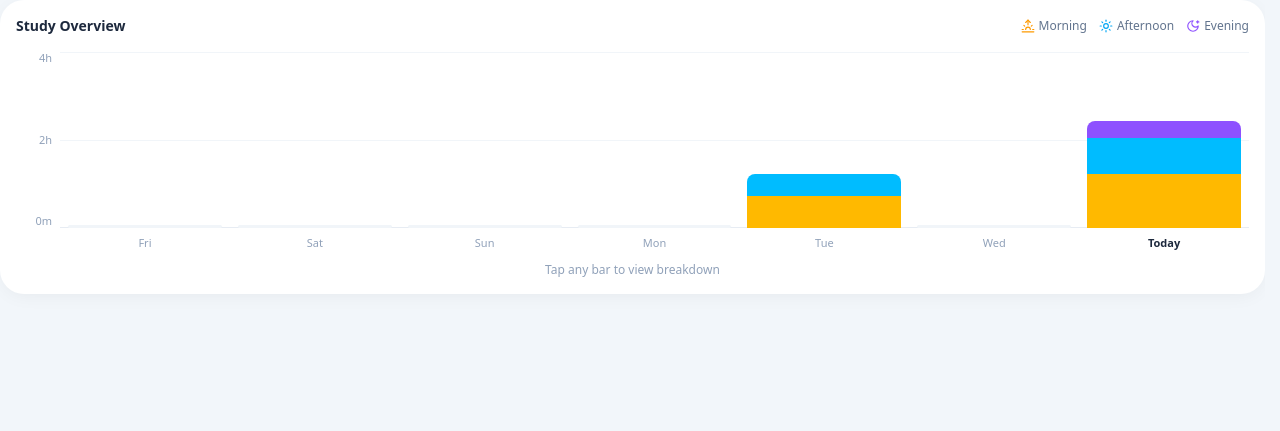
Test case: StudyChart & StatsView › reveals Morning/Afternoon/Evening breakdown on tap and triggers onSelectDate when clicking Edit day
Later steps or results of the test are not shown.
Click the button named "Today: 2h 30m": (1164, 140) x1=1083 y1=52 x2=1245 y2=228
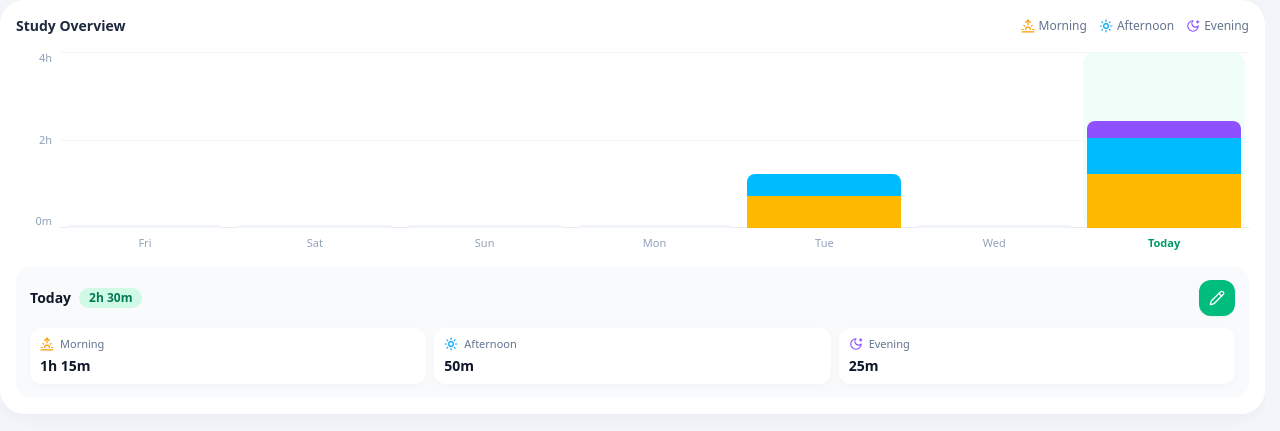
Check: the element with test id "chart-day-detail" shows "Today", box x1=30 y1=288 x2=71 y2=307
Check: the element with test id "chart-day-detail" shows "Morning", box x1=60 y1=336 x2=104 y2=351
Check: the element with test id "chart-day-detail" shows "Afternoon", box x1=464 y1=336 x2=517 y2=351
